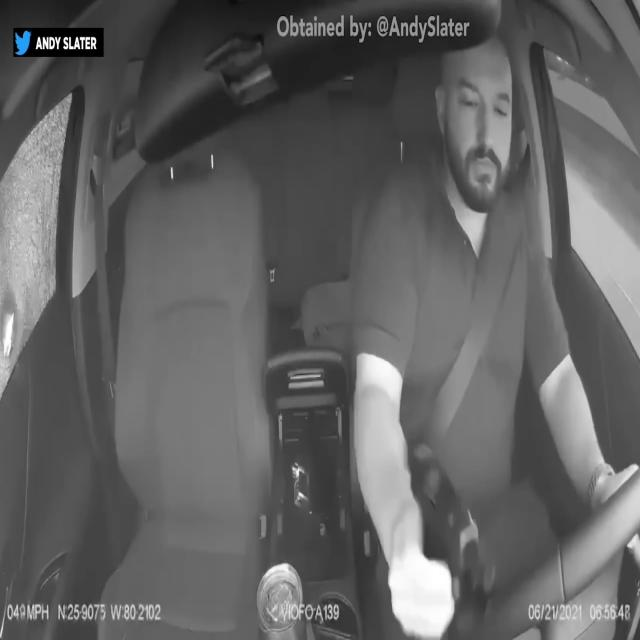senjata_api: (406, 437, 488, 599)
